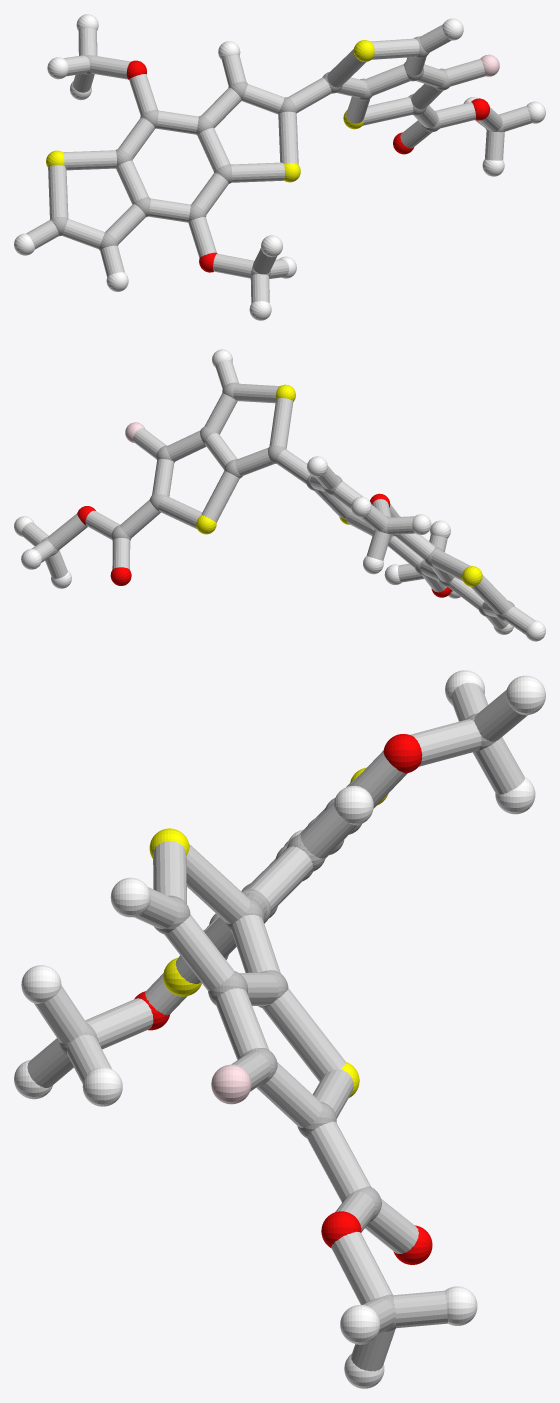
The model's file is Dimethoxy_Benzodithiophene_Phi_15_Theta_80_Methylcarbonyl_3_Fluoro_Thienothiophene.glb.
3 views of the same model, one above another, from view 1: azimuth 30°, elevation 25°; view 2: azimuth 150°, elevation 25°; view 3: azimuth 270°, elevation 25° (orthographic). The views are drawn at different scales.
Visible parts, largest first — view 1: grp15205, grp8689, grp1, grp7241, grp13395; view 2: grp15205, grp8689, grp1, grp7241, grp13395; view 3: grp15205, grp8689, grp1, grp13395, grp7241, grp14843.
Boxes of the visible parts, bbox=[...] form: grp15205: bbox=[26, 24, 531, 303]; grp8689: bbox=[14, 14, 545, 320]; grp1: bbox=[50, 36, 504, 276]; grp7241: bbox=[46, 40, 374, 182]; grp13395: bbox=[126, 60, 489, 272]; grp15205: bbox=[21, 360, 534, 634]; grp8689: bbox=[14, 349, 545, 641]; grp1: bbox=[41, 382, 514, 620]; grp7241: bbox=[196, 384, 482, 586]; grp13395: bbox=[77, 493, 451, 597]; grp15205: bbox=[27, 682, 527, 1371]; grp8689: bbox=[14, 670, 545, 1388]; grp1: bbox=[59, 713, 495, 1331]; grp13395: bbox=[134, 734, 432, 1264]; grp7241: bbox=[149, 767, 388, 1097]; grp14843: bbox=[211, 1064, 251, 1104].
Bounding box in the file's own units: 16.99 × 6.84 × 7.96.
